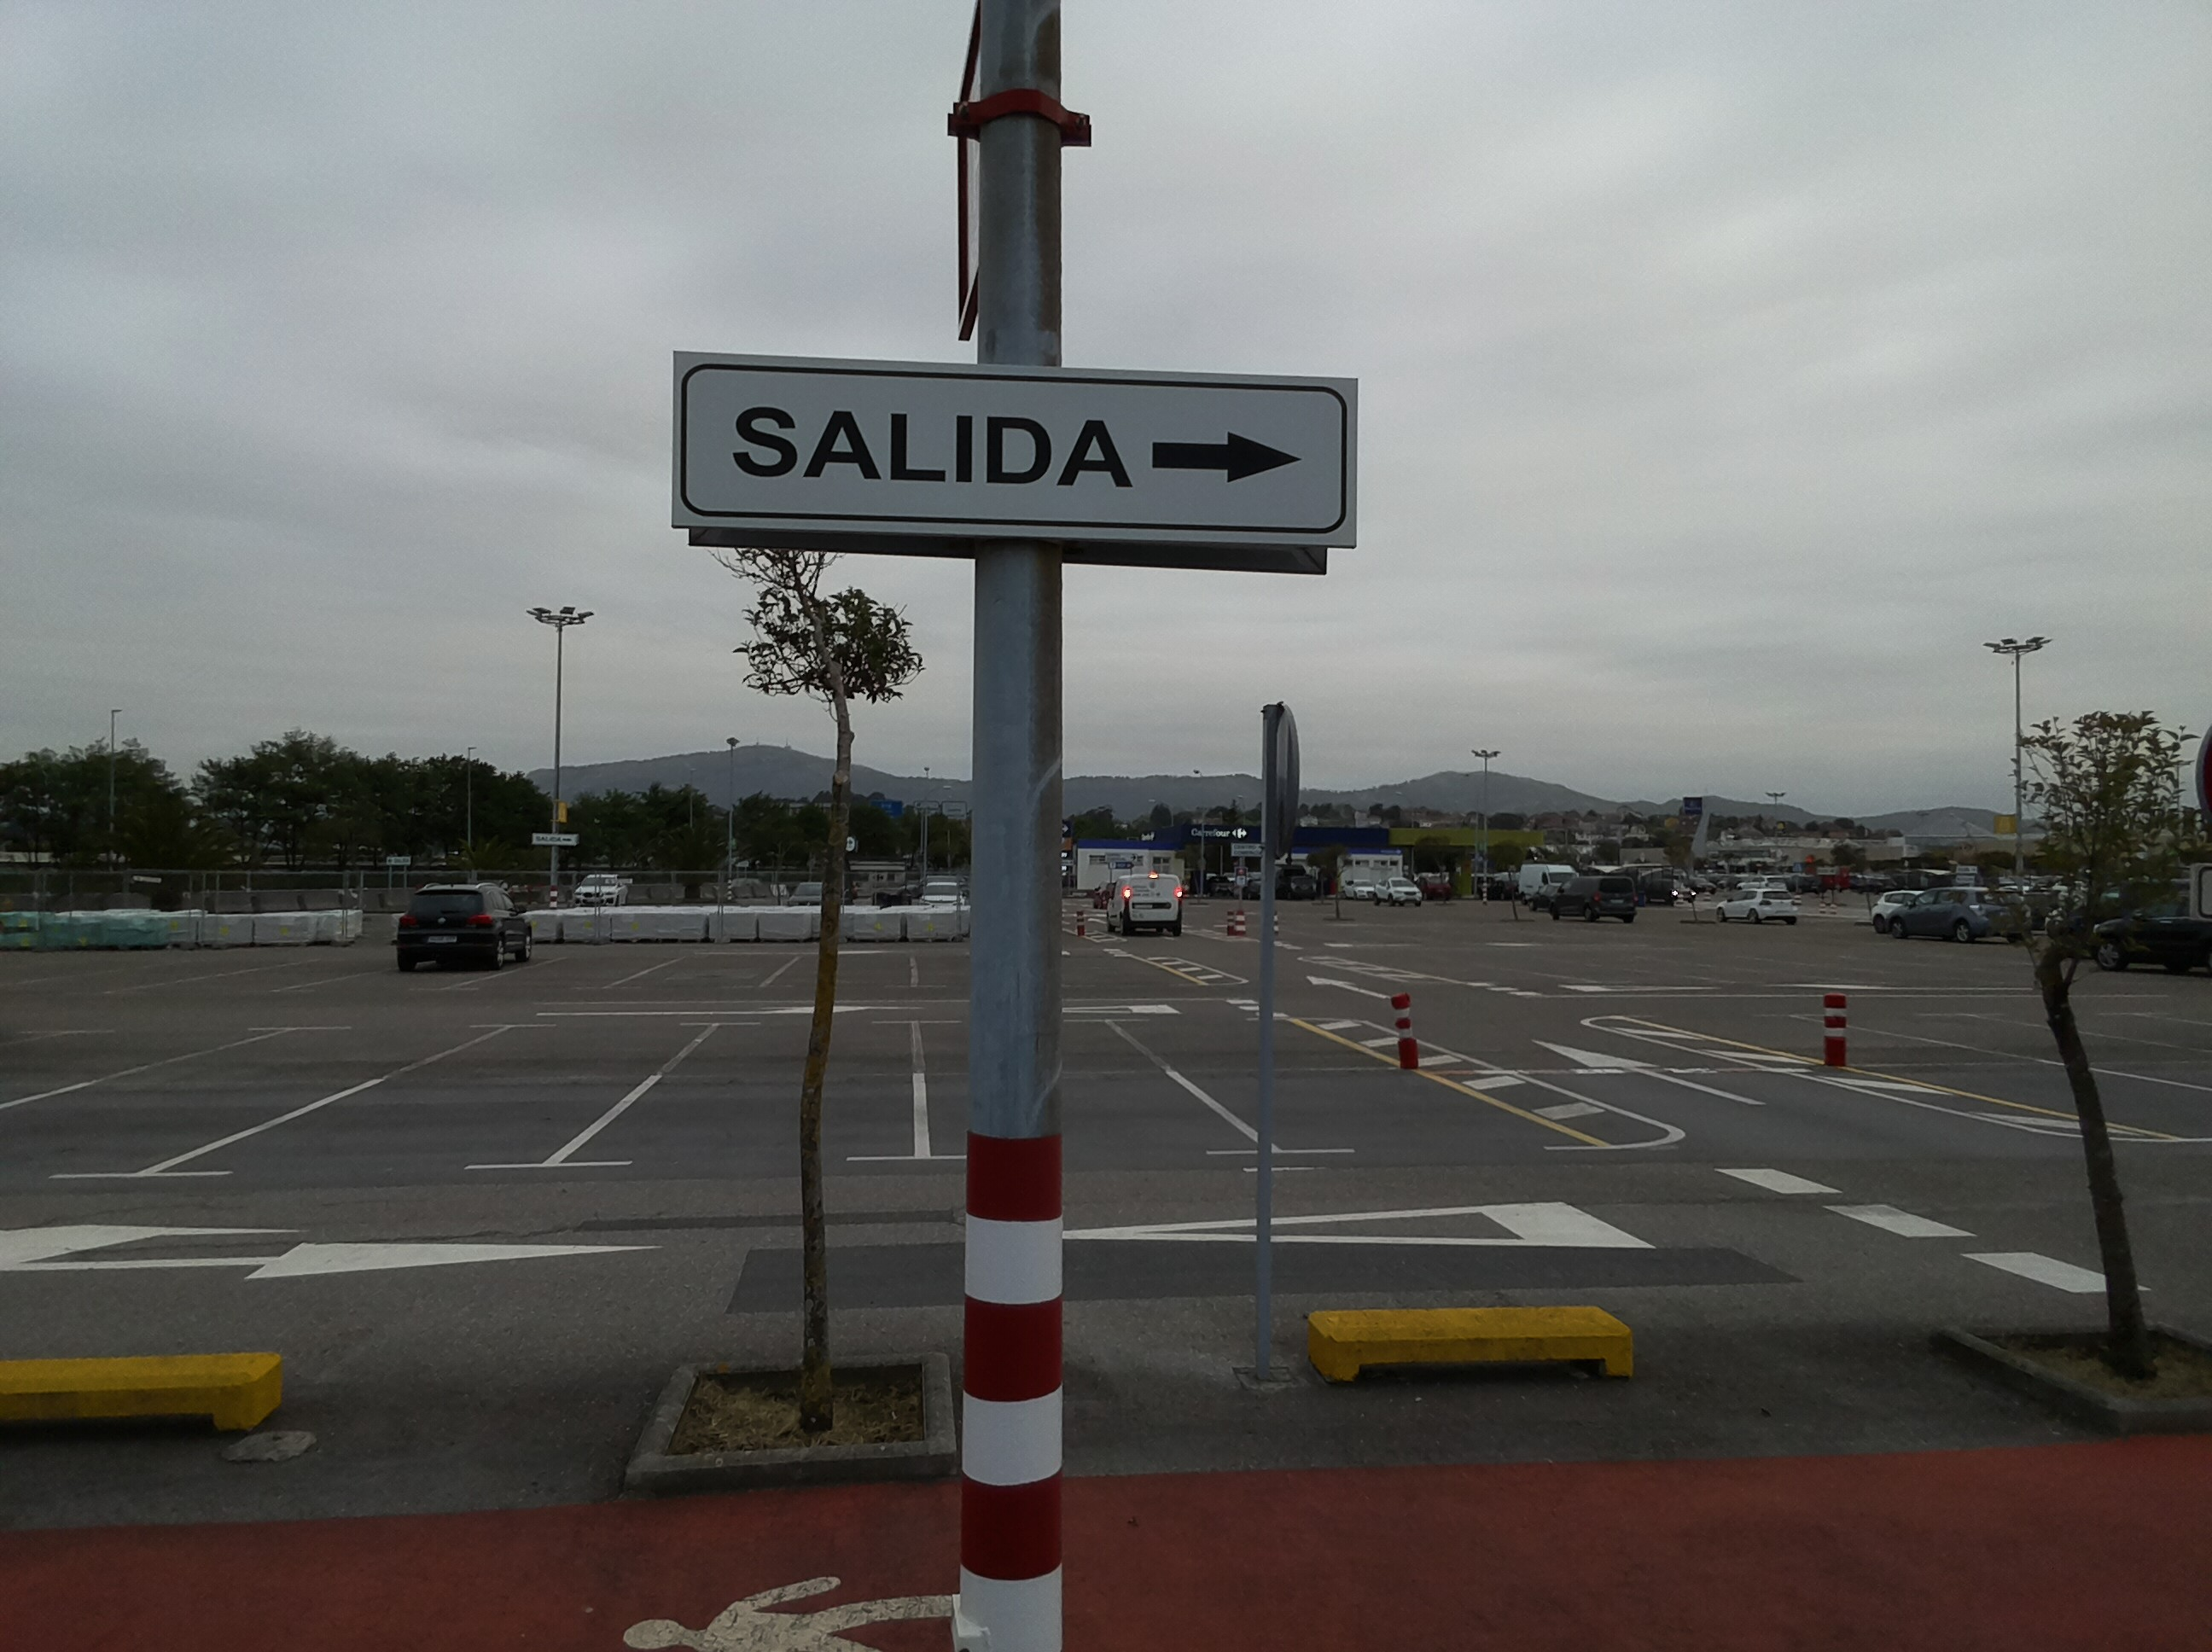Cartel: (668, 349, 1371, 585)
Poste: (947, 0, 1067, 1144), (956, 1131, 1079, 1652)
